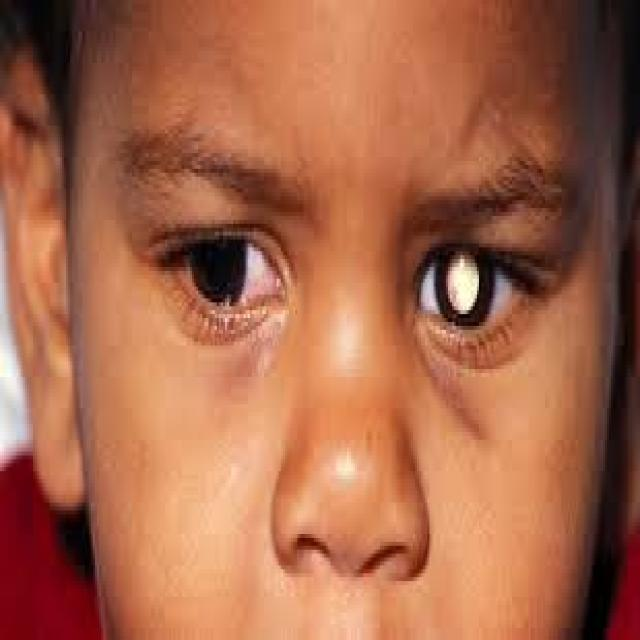reflexo-alterado: (417, 227, 538, 368)
reflexo-normal: (179, 220, 260, 330)
